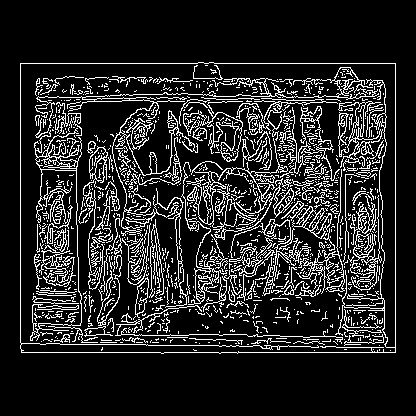buddha-sitting: (42, 190, 76, 285)
